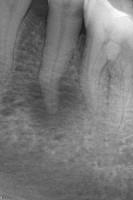Furcation Involvement: (27, 78, 81, 129)
